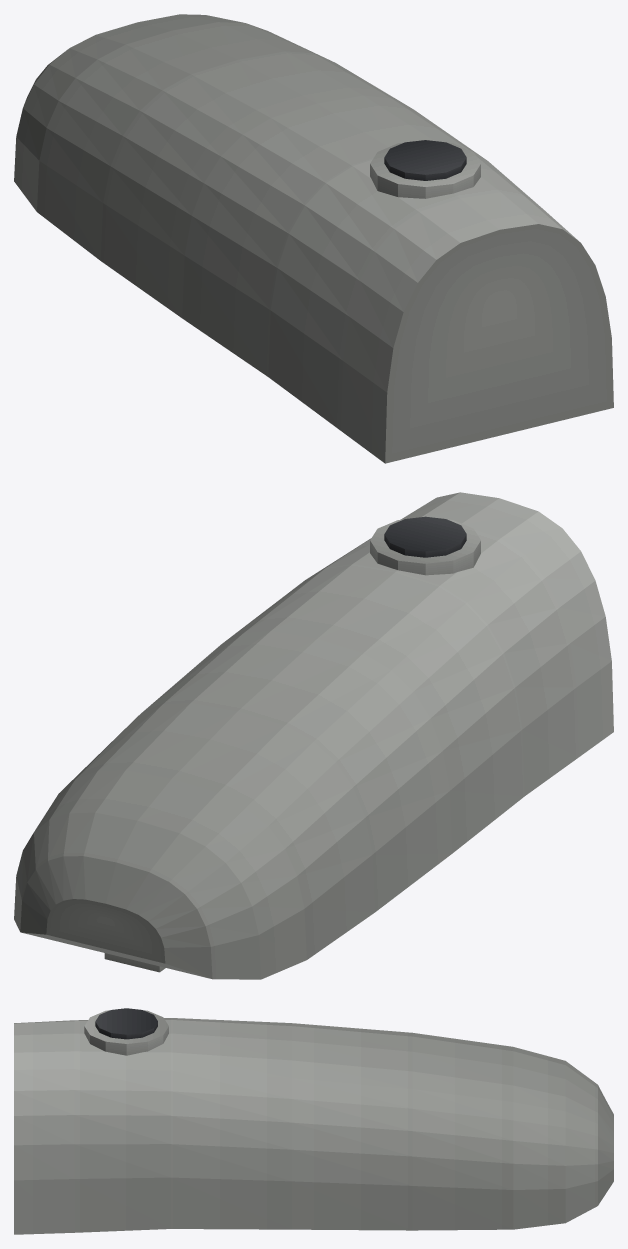
Rendered from streetlight_gem240r1cunp.obj.
3 renders of one model, top to bottom at view 1: azimuth 30°, elevation 25°; view 2: azimuth 150°, elevation 25°; view 3: azimuth 270°, elevation 25°, orthographic. The views are drawn at different scales.
Visible parts, largest first — view 1: fixture; view 2: fixture; view 3: fixture.
Boxes of the visible parts, x1,y1,x2,y2 form: fixture: (14, 14, 613, 463); fixture: (14, 492, 613, 979); fixture: (14, 1008, 613, 1234).
Size of the model in its own units: 0.375 by 0.2925 by 0.9312.
